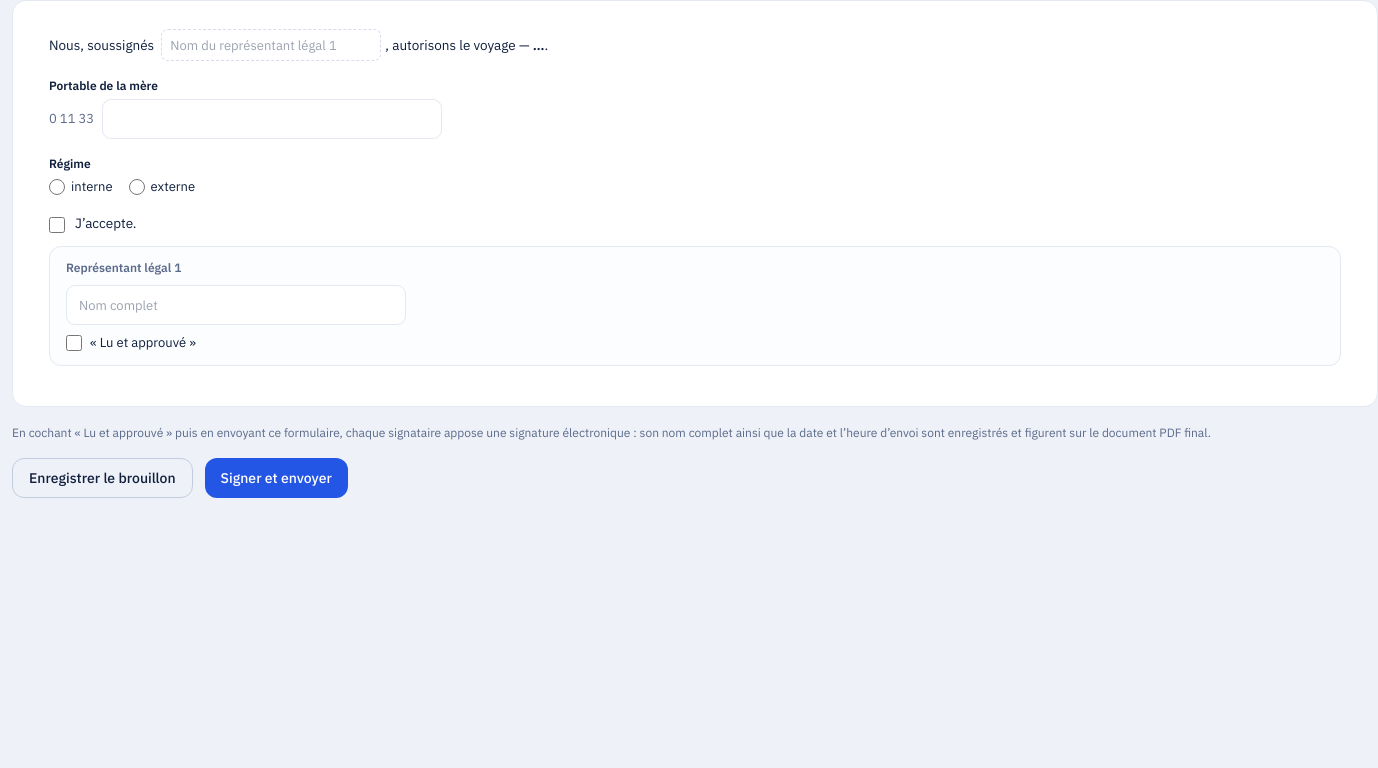
FillableForm › shows a structured error without navigating
Click the button "Signer et envoyer" at (276, 478), box [205,458,348,498]
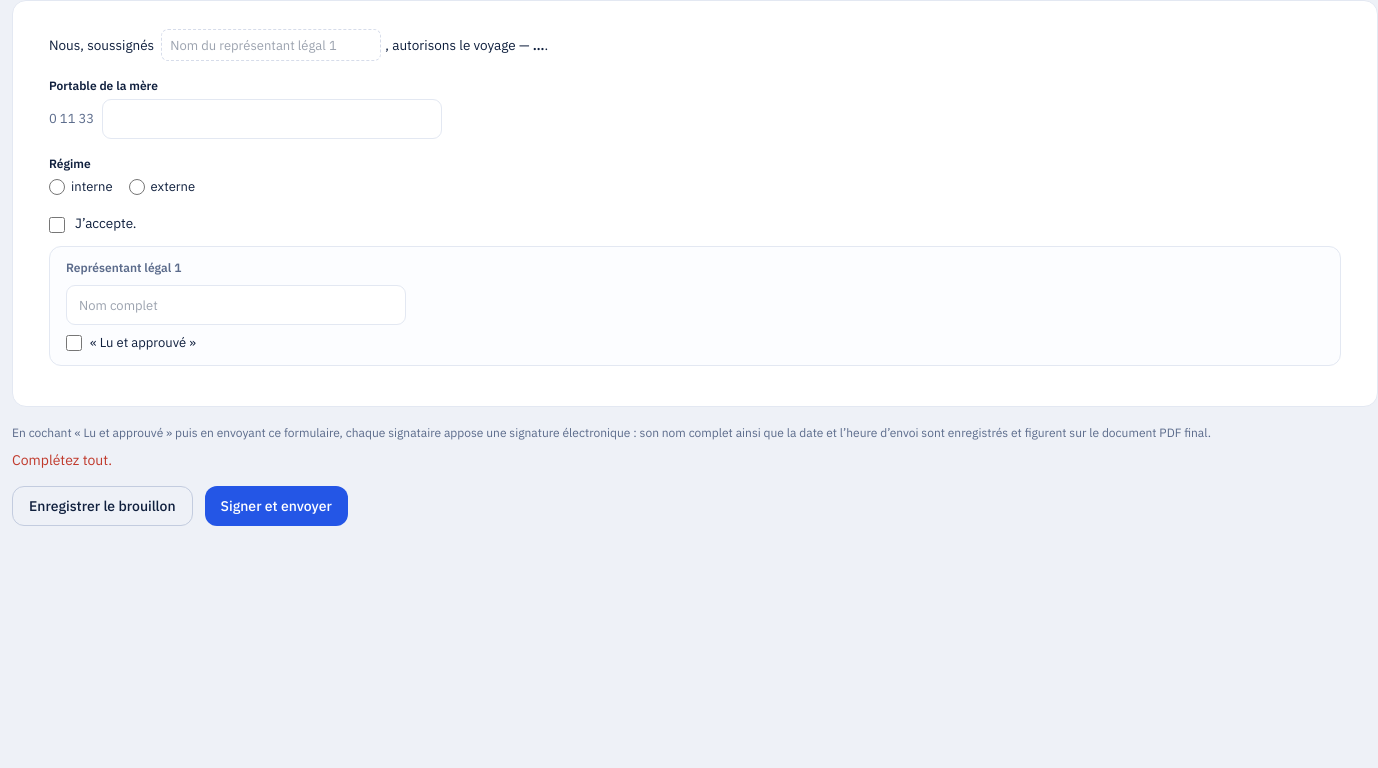
Now the text "Complétez tout." is shown, box [12,451,112,469]
